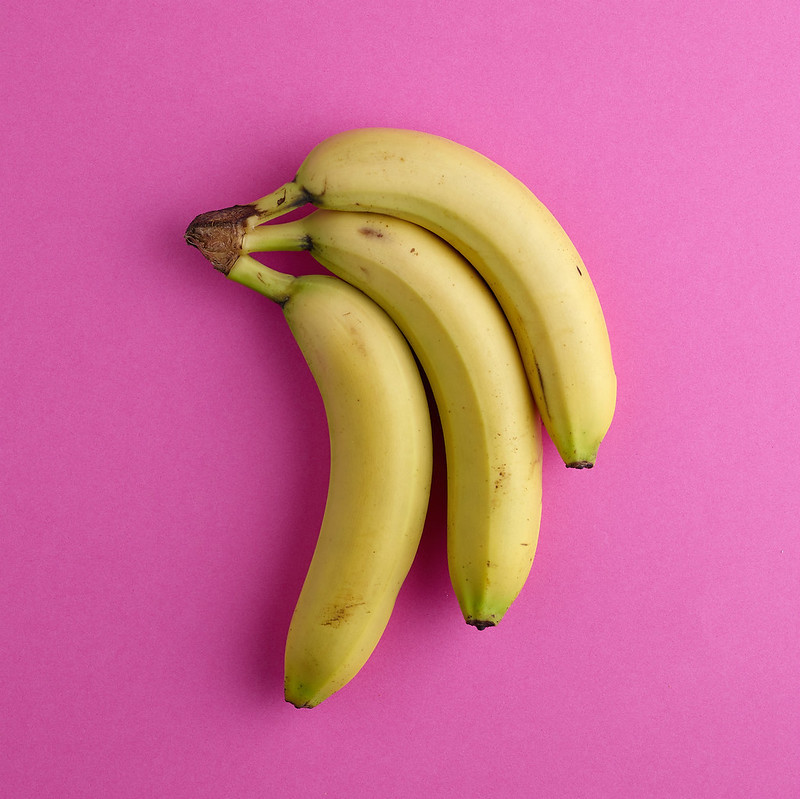banana: (208, 126, 640, 714)
